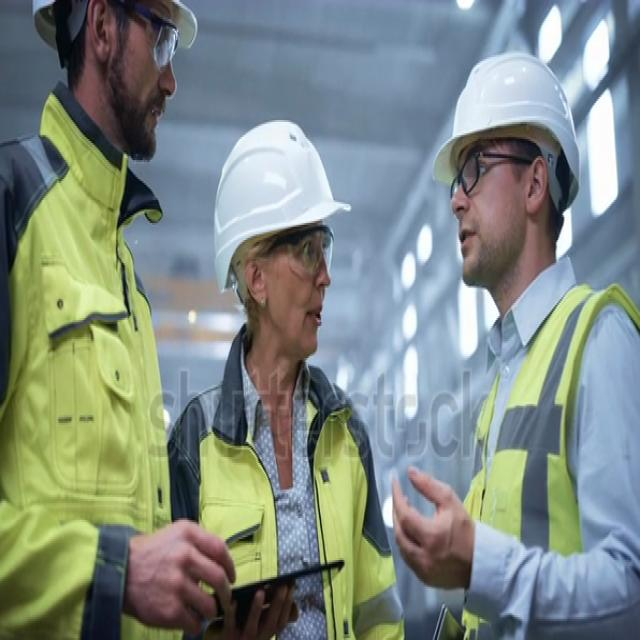Glasses: (446, 139, 540, 203), (254, 213, 334, 284), (130, 1, 178, 76)
Helmet: (212, 113, 358, 295), (432, 48, 588, 190)
Vest: (0, 139, 170, 640), (465, 273, 639, 640), (168, 365, 390, 640)
